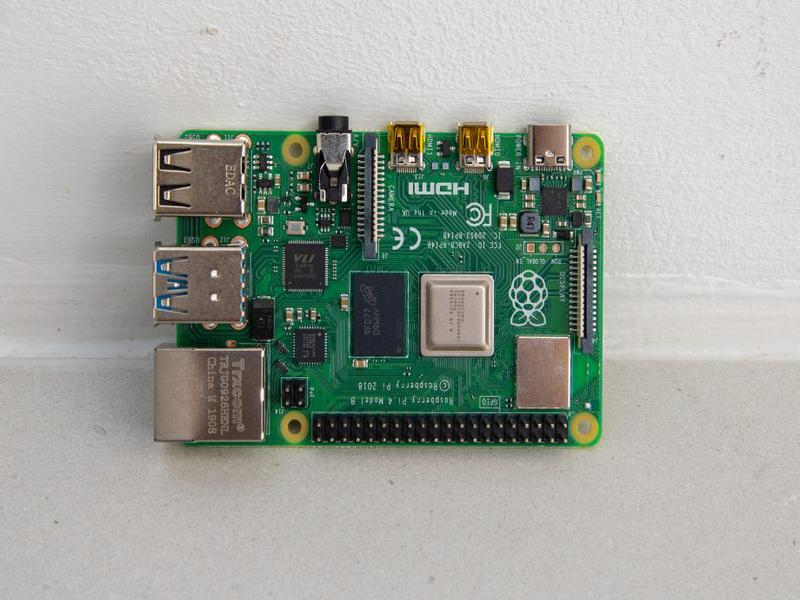Raspberry Pi: (148, 118, 607, 450)
